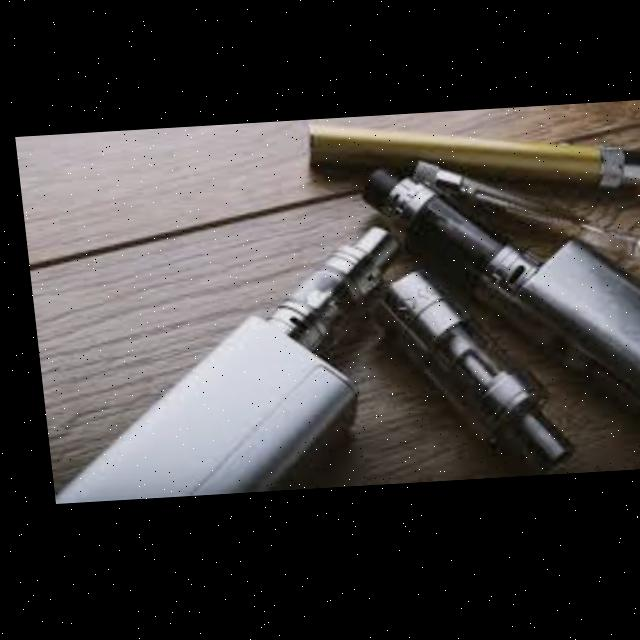vape: (22, 227, 415, 501), (352, 157, 640, 488), (360, 263, 567, 487), (300, 109, 640, 210)
